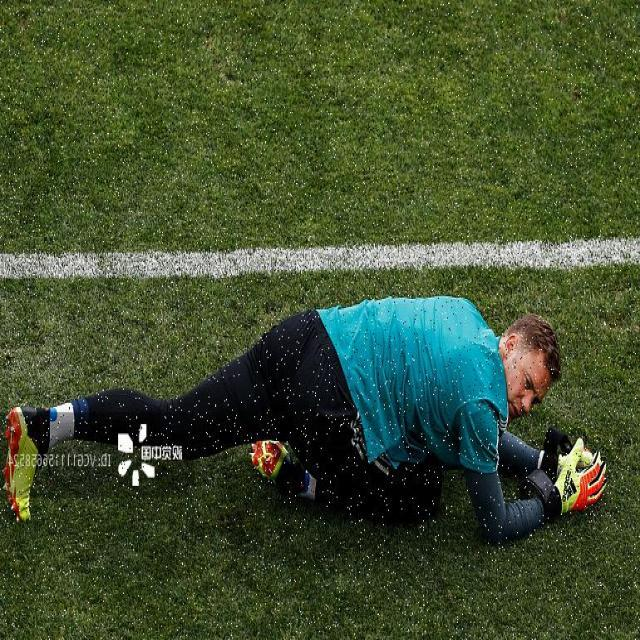fall: (24, 296, 580, 506)
